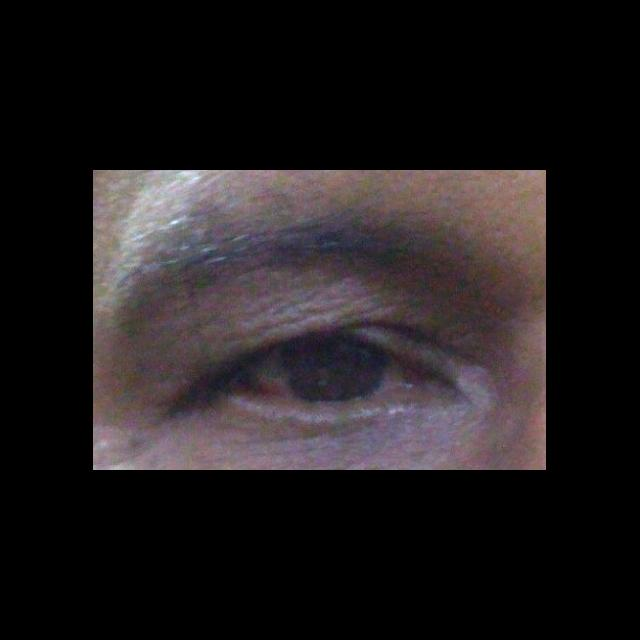eye: (228, 334, 416, 403)
iris: (279, 335, 387, 401)
